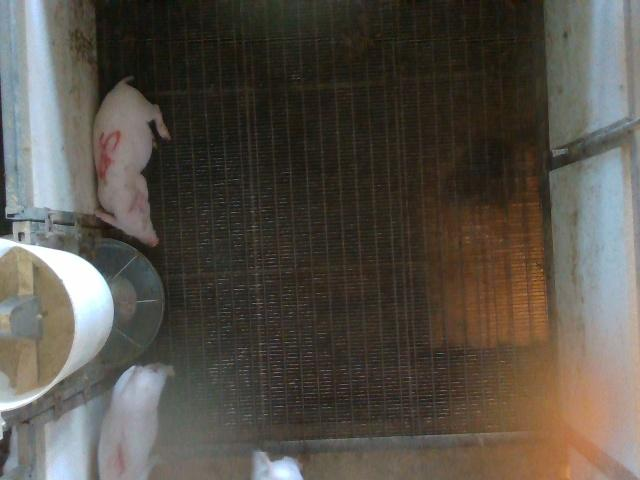pig-1: (99, 364, 174, 479)
pig-5: (94, 78, 170, 246)
